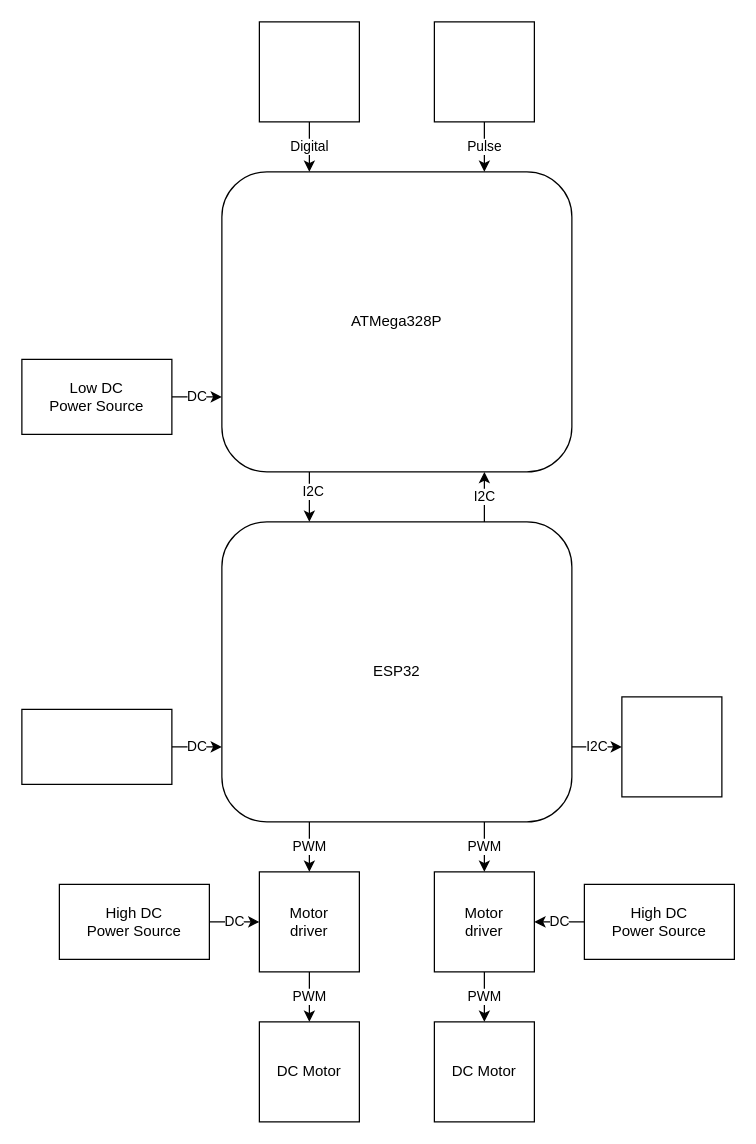
Some shapes in this 756 by 1144 pixel diagram are drawn without their labels. The shapes that lost their labels are listed below. From the top down, each one's box as (x1, y1, x2, y2) in pixels, then its label:
(258, 21, 359, 122): Line follower
(433, 21, 534, 122): Distance Sensor
(21, 708, 172, 784): DC Power Source
(621, 696, 722, 797): OLED Display
